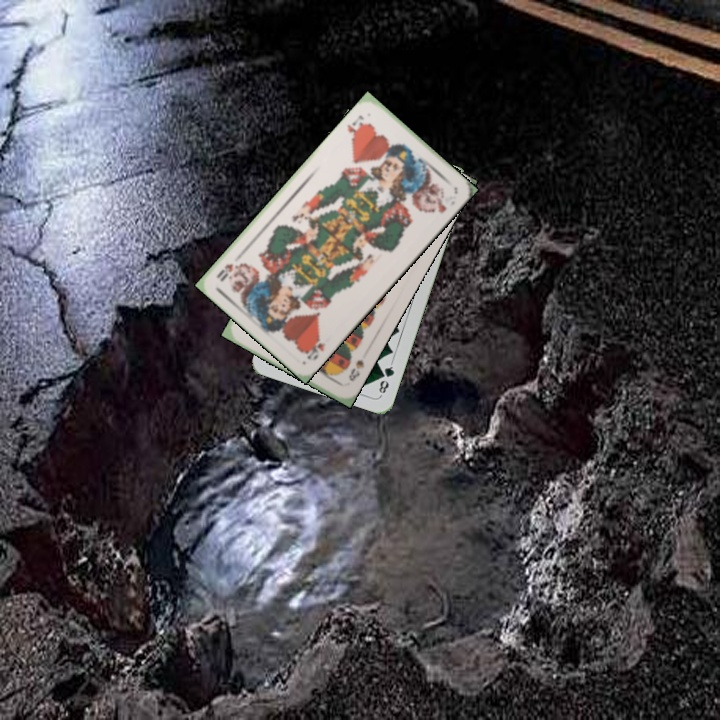G8: (375, 358, 397, 398)
HO: (302, 332, 328, 364), (343, 111, 368, 143)
S8: (344, 355, 367, 384)
